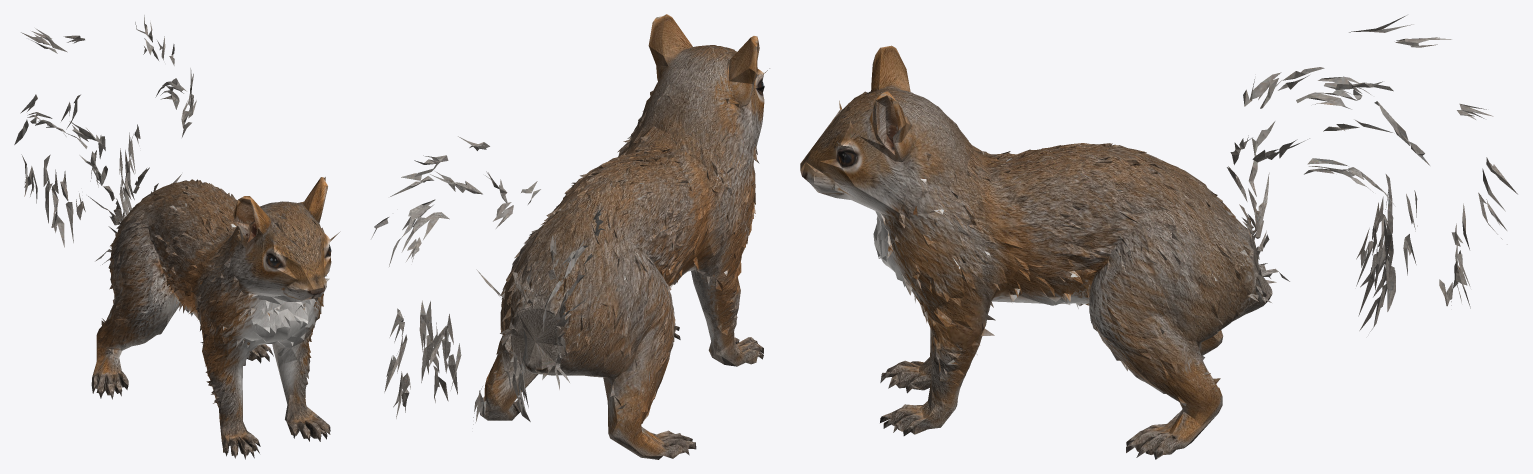
File: squirrel.glb
3 renders of one model, left to right at view 1: azimuth 30°, elevation 25°; view 2: azimuth 150°, elevation 25°; view 3: azimuth 270°, elevation 25°, orthographic. The views are drawn at different scales.
Parts seen in each view (by area): view 1: output_unwrapped; view 2: output_unwrapped; view 3: output_unwrapped.
Part boxes in pixels (left/top/right/bottom): output_unwrapped: left=14, top=15, right=340, bottom=459; output_unwrapped: left=371, top=14, right=769, bottom=459; output_unwrapped: left=800, top=15, right=1517, bottom=459.
Size of the model in its own units: 0.1425 by 0.22 by 0.3954.
Materials: 1 (1 with a texture image).
